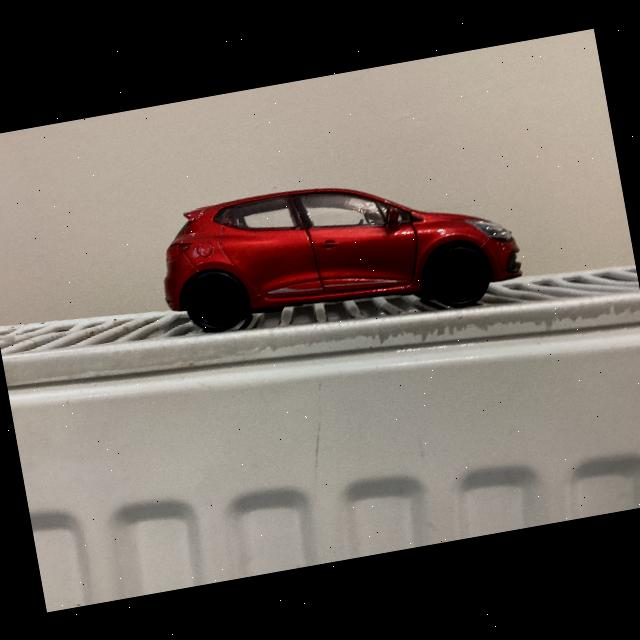Dogru_Jant: (430, 247, 484, 302), (188, 274, 242, 328)
